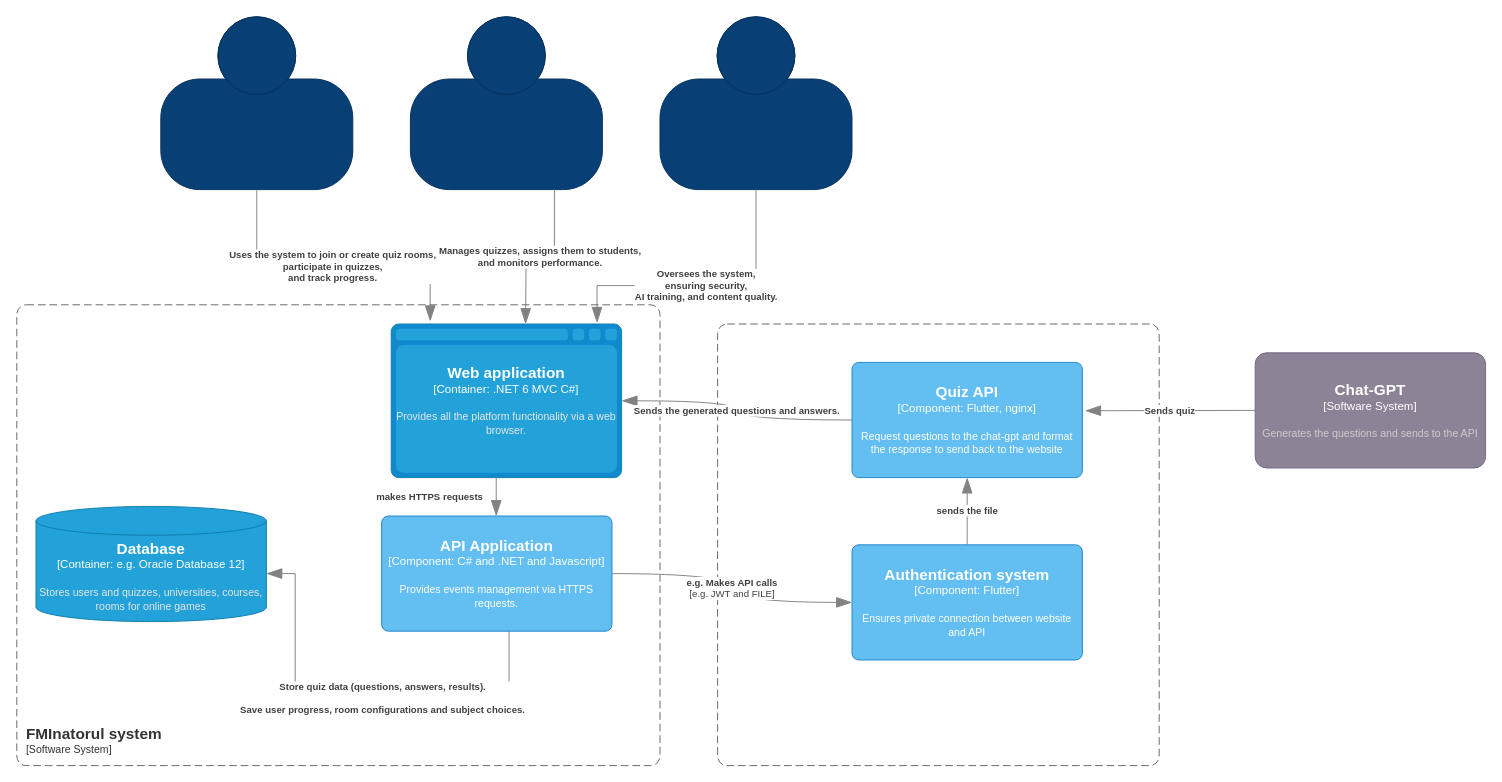
This 1502x782 diagram has some shape labels left out. Each missing label, with the box of its shape:
API for quiz generation [Software System]: (717, 323, 1159, 766)
Professor [Person] Aprove questions for their classes: (409, 16, 602, 190)
Student [Person] Wants to learn for university exams: (160, 16, 353, 190)
System Adminstrator [Person] Can add questions and manage the app: (659, 16, 852, 190)
